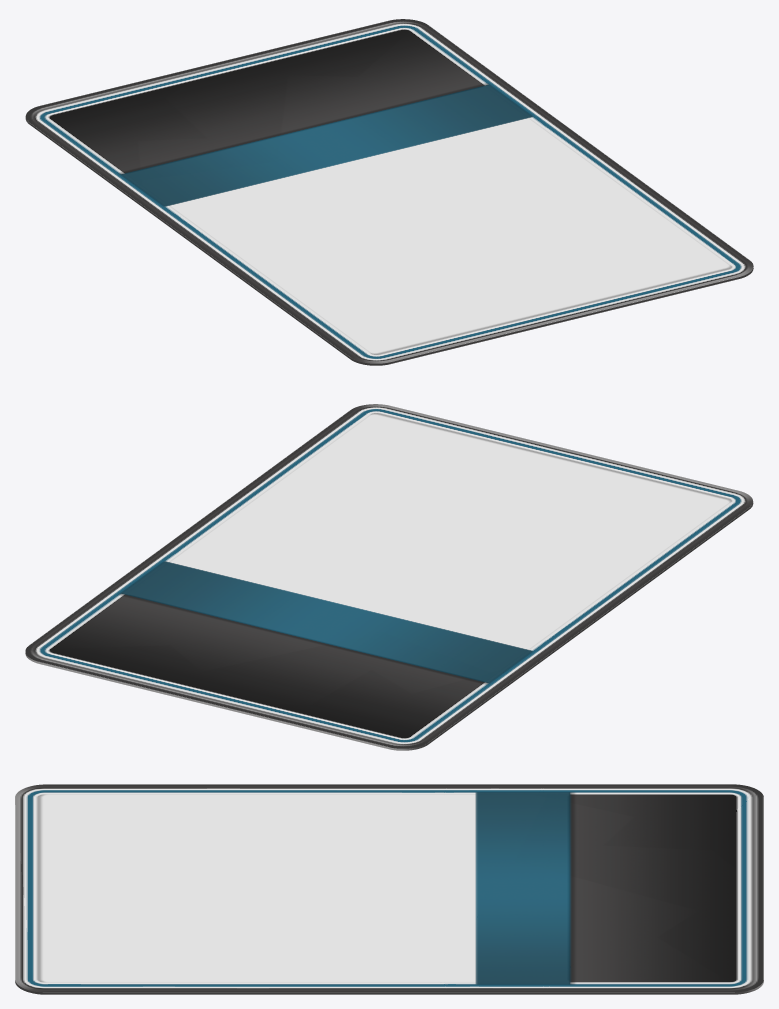
File: Card_Proxy.fbx
The picture shows the model from 3 angles, top to bottom: view 1: azimuth 30°, elevation 25°; view 2: azimuth 150°, elevation 25°; view 3: azimuth 270°, elevation 25°; orthographic projection. The views are drawn at different scales.
Parts seen in each view (by area): view 1: Card_Proxy; view 2: Card_Proxy; view 3: Card_Proxy.
Boxes of the visible parts, x1,y1,x2,y2 form: Card_Proxy: (25, 19, 753, 365); Card_Proxy: (25, 404, 753, 750); Card_Proxy: (15, 784, 763, 994).
Size of the model in its own units: 13.59 by 0.0657 by 20.7.
